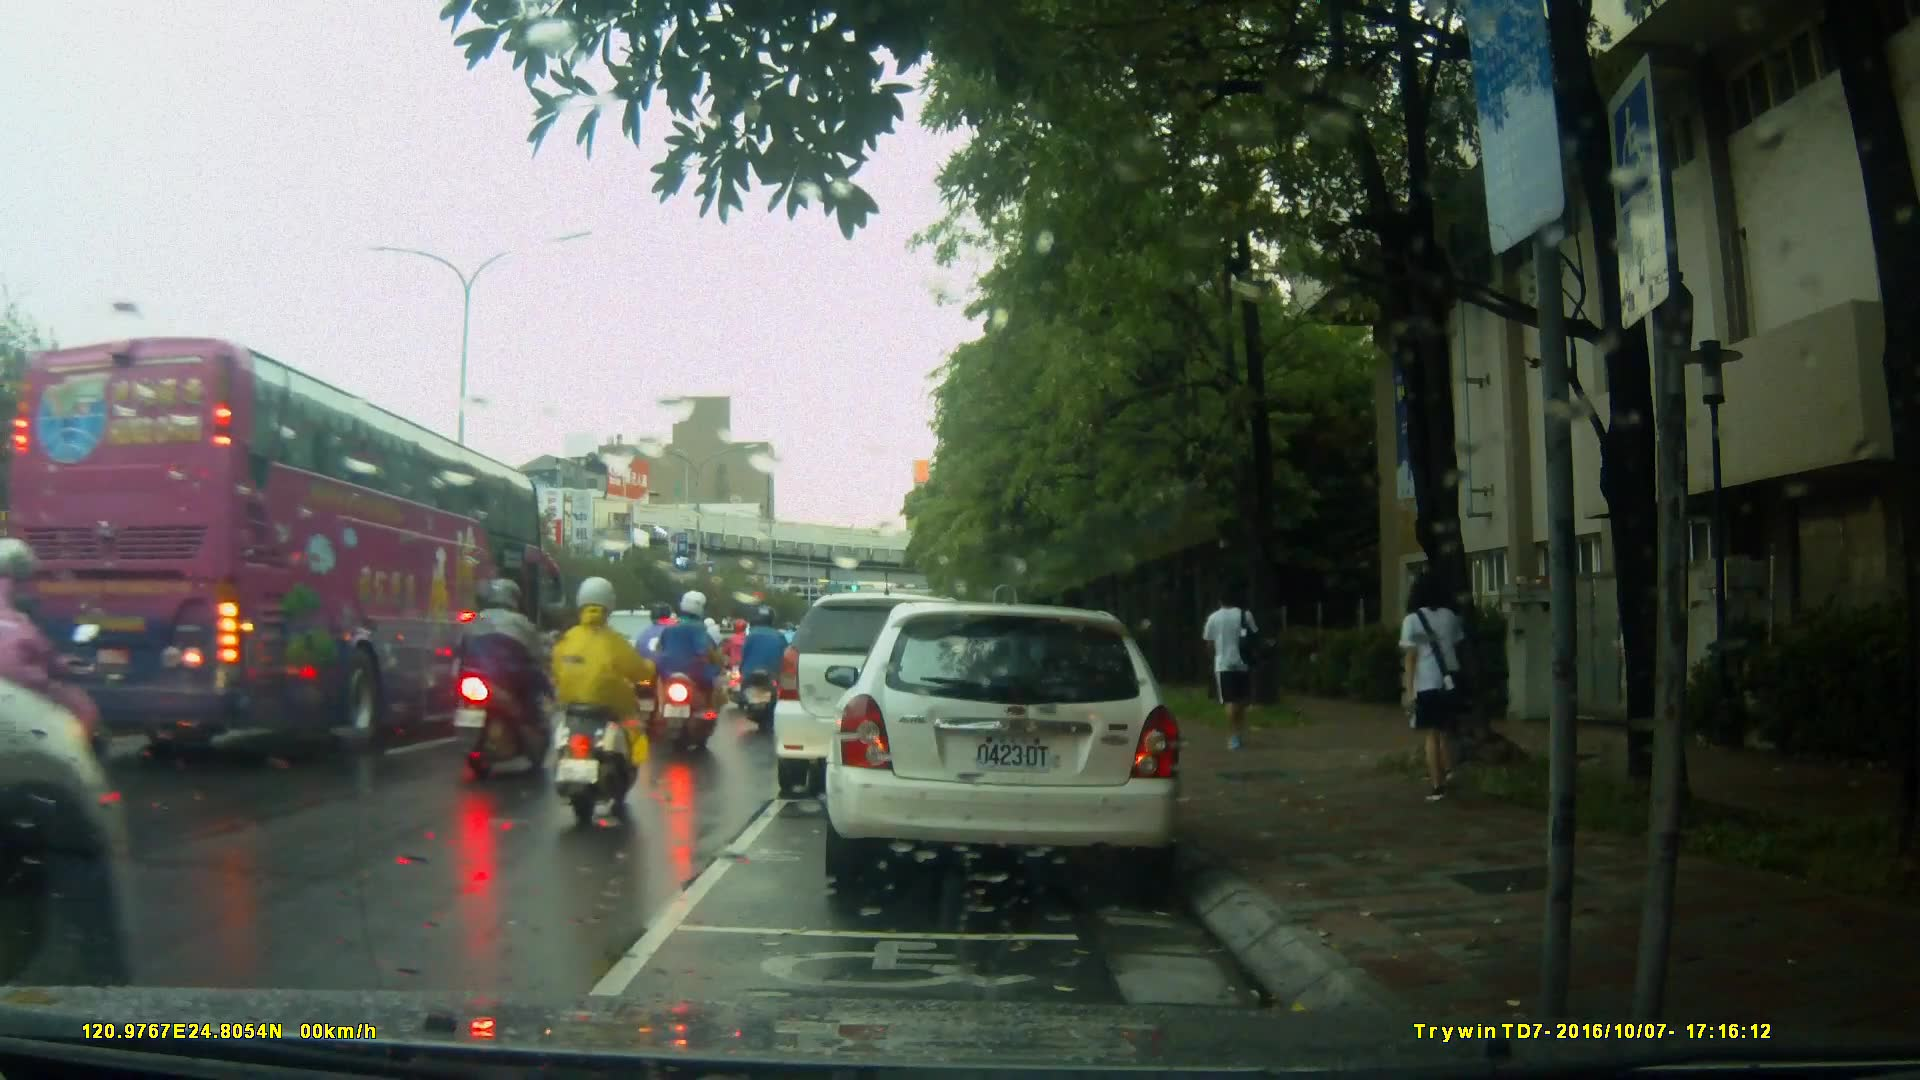pedestrian: (1383, 572, 1471, 811), (1190, 579, 1257, 755)
rider: (1, 537, 116, 859), (552, 575, 648, 829), (459, 573, 560, 781), (655, 586, 721, 774), (735, 604, 799, 740), (636, 598, 688, 734), (722, 617, 764, 701), (780, 624, 812, 687)
vehicle: (11, 334, 549, 751), (835, 594, 1194, 898), (776, 590, 1026, 784), (560, 608, 718, 738)
